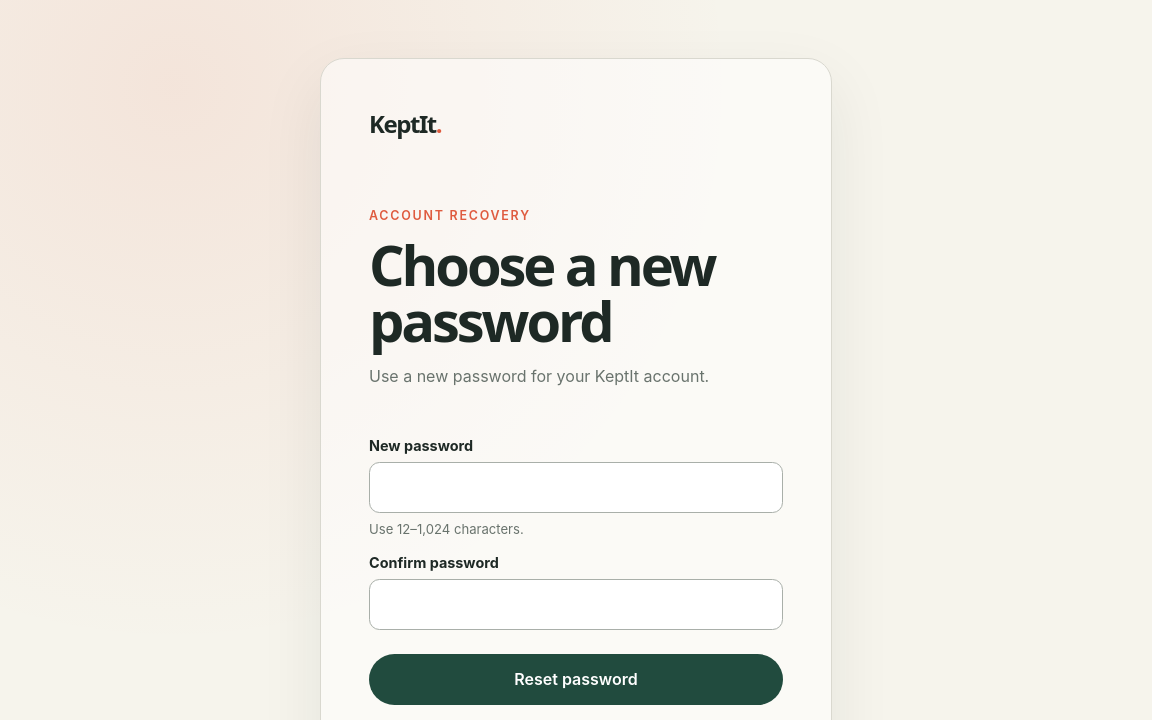
Test: password recovery › submits the in-memory token, never uses storage, and shows login action
Type "long enough password" into the password field labelled "New password".
click(576, 487); type("long enough password")  # box [369,462,783,513]
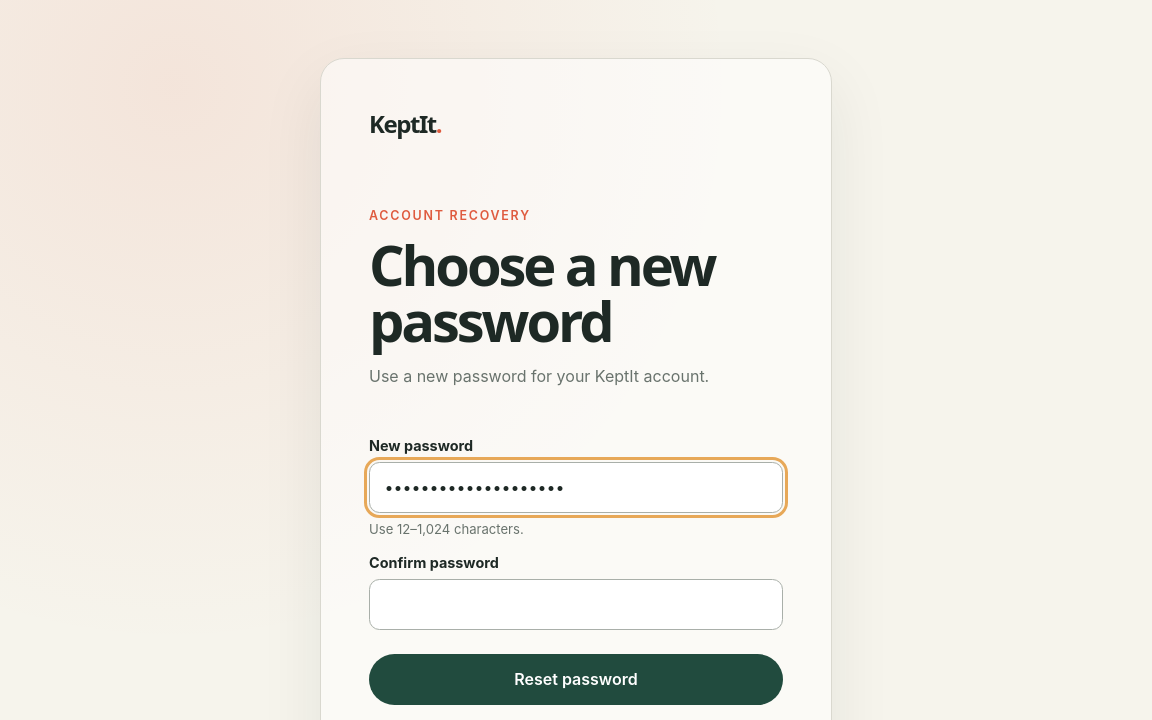
Type "long enough password" into the password field labelled "Confirm password".
click(576, 604); type("long enough password")  # box [369,579,783,630]
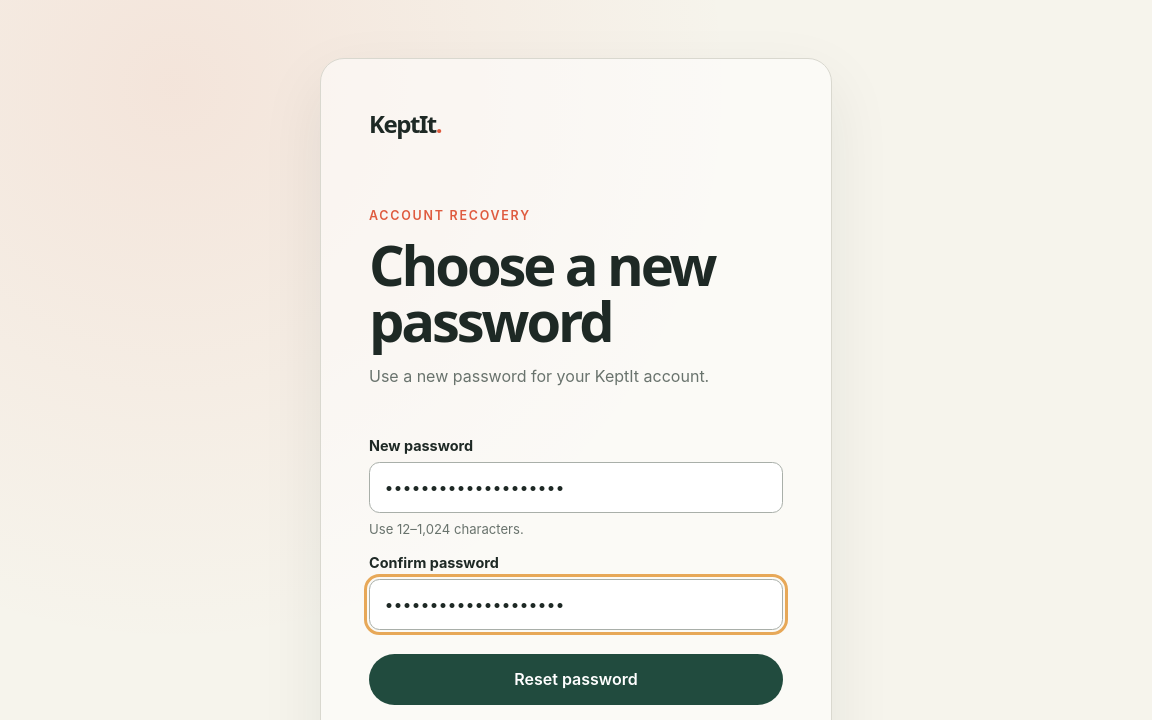
Click the button "Reset password".
click(576, 679)  # box [369,654,783,705]
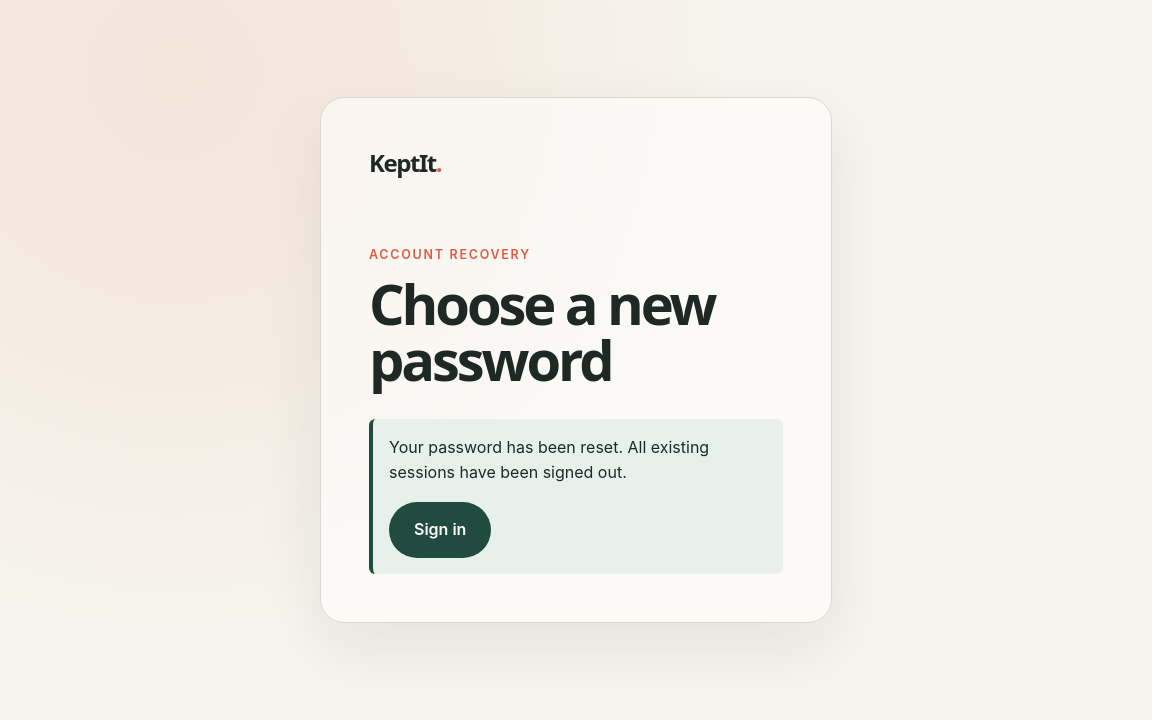
Now the message shows "All existing sessions", box [389,437,709,482]
